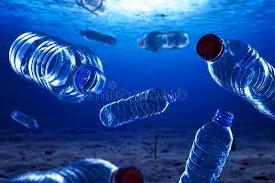Plastic: (6, 27, 113, 105), (198, 20, 274, 113), (90, 76, 186, 141), (172, 99, 238, 182)
